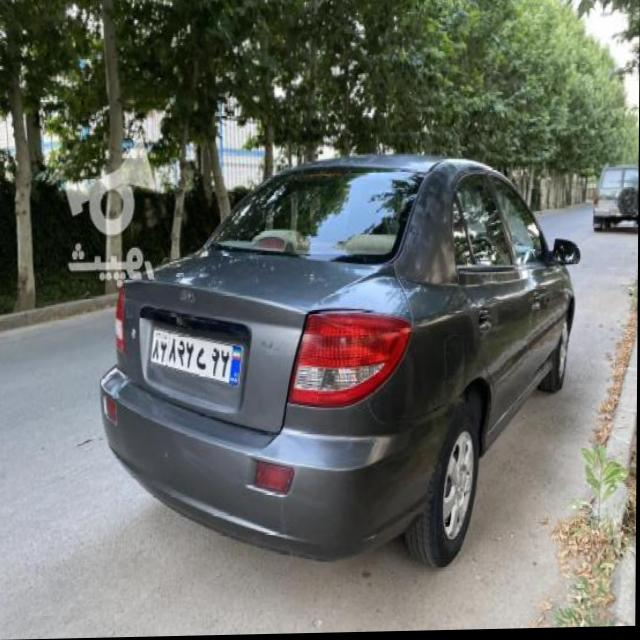licence: (152, 323, 245, 385)
